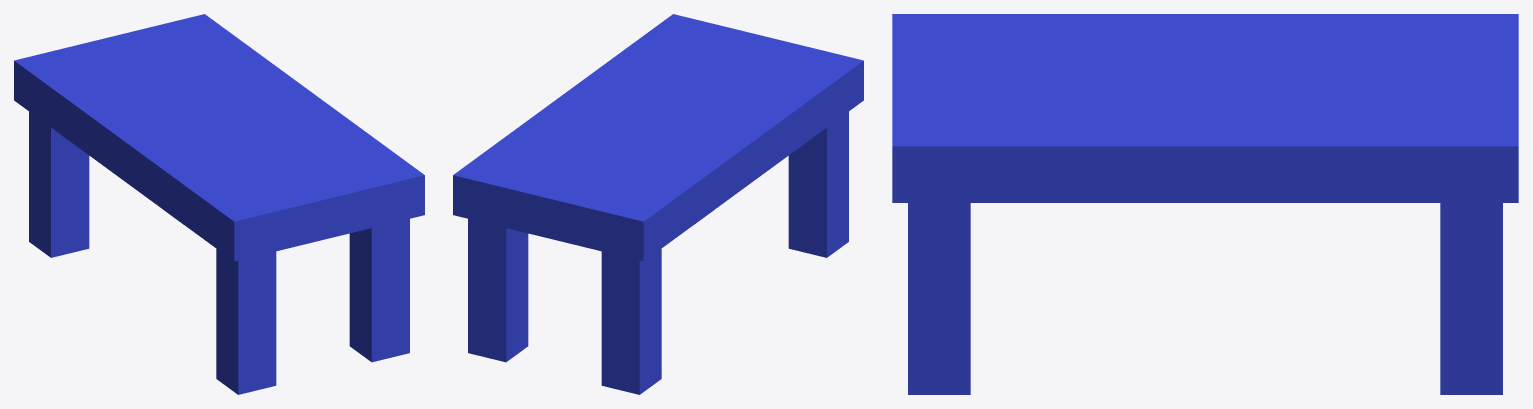
Rendered from table_m1.fbx.
The picture shows the model from 3 angles, left to right: view 1: azimuth 30°, elevation 25°; view 2: azimuth 150°, elevation 25°; view 3: azimuth 270°, elevation 25°; orthographic projection. The views are drawn at different scales.
Parts seen in each view (by area): view 1: Cube; view 2: Cube; view 3: Cube.
Boxes of the visible parts, left/top/right/bottom form: Cube: left=14, top=14, right=424, bottom=394; Cube: left=453, top=14, right=863, bottom=394; Cube: left=892, top=14, right=1518, bottom=394.
Bounding box in the file's own units: 2 × 1.8 × 4.
